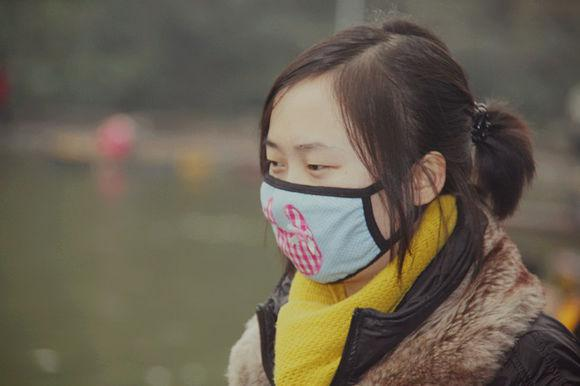OK: (263, 136, 397, 277)
